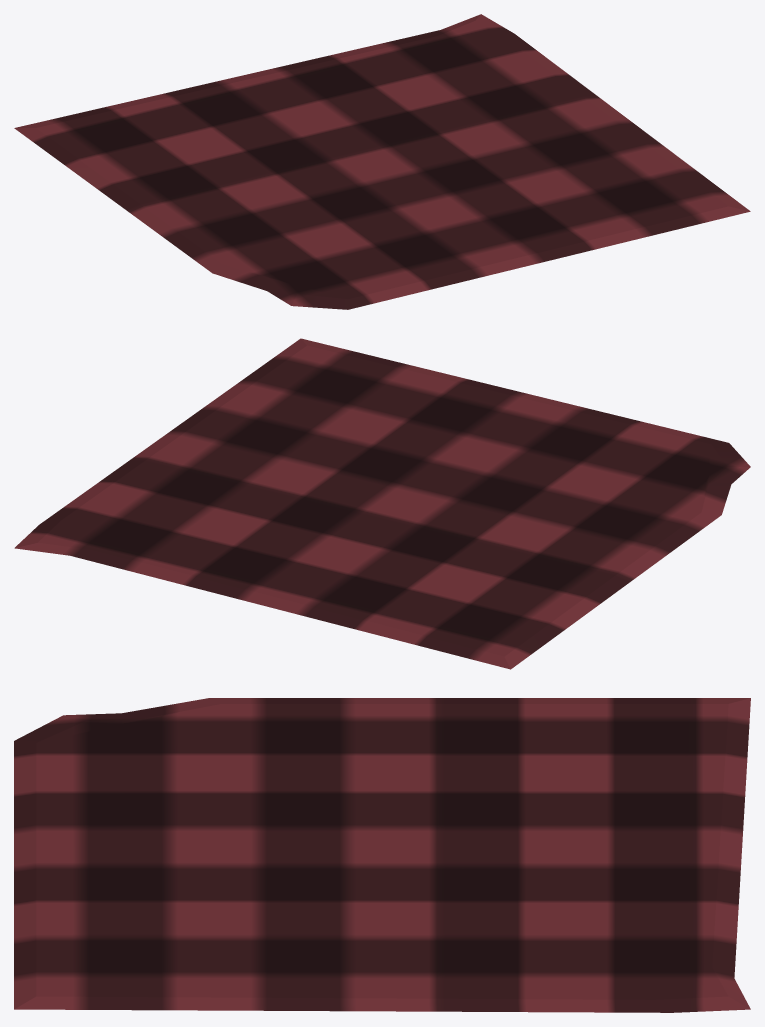
The model's file is CarpetSqeur.fbx.
The picture shows the model from 3 angles, top to bottom: view 1: azimuth 30°, elevation 25°; view 2: azimuth 150°, elevation 25°; view 3: azimuth 270°, elevation 25°; orthographic projection. The views are drawn at different scales.
Parts seen in each view (by area): view 1: SqeurCarpet; view 2: SqeurCarpet; view 3: SqeurCarpet.
Boxes of the visible parts, x1,y1,x2,y2 form: SqeurCarpet: [14, 14, 750, 309]; SqeurCarpet: [14, 338, 750, 669]; SqeurCarpet: [14, 698, 750, 1012].
Bounding box in the file's own units: 7.75 × 0.0415 × 7.67.
1 material, 1 textured.
